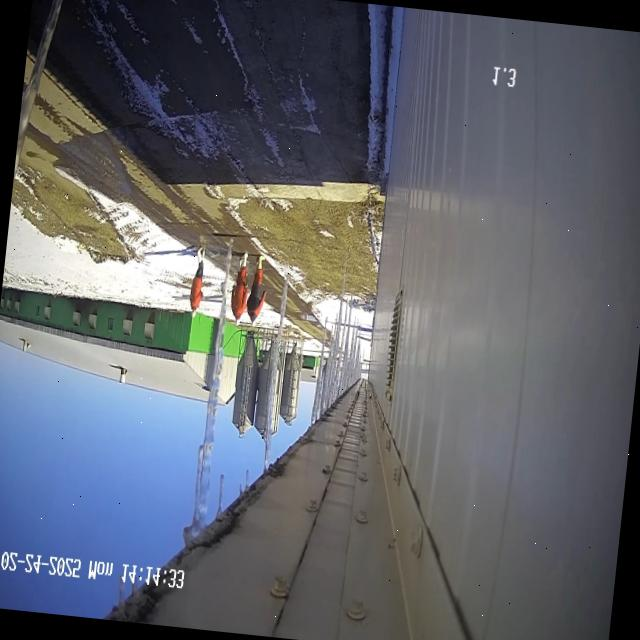Red uniform: (246, 255, 265, 322), (231, 253, 248, 323), (189, 248, 204, 316)
